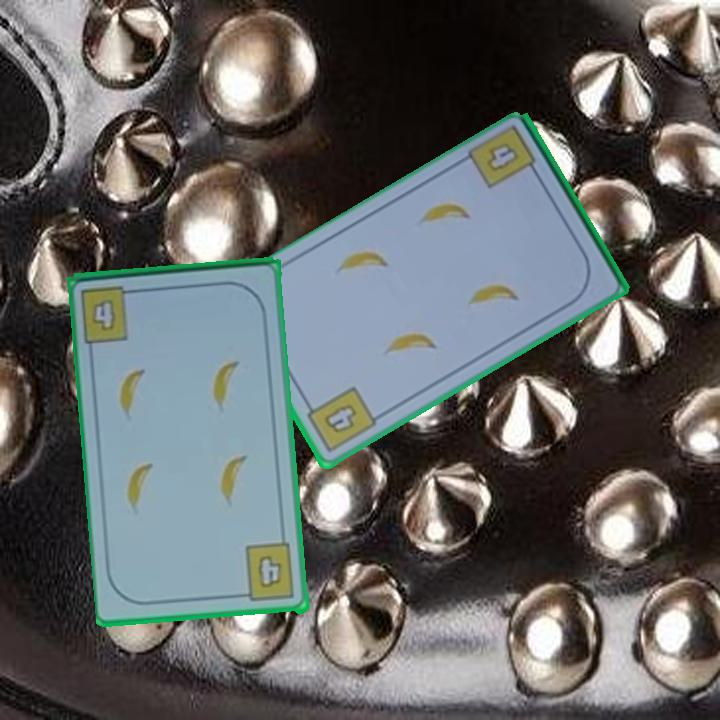4b: (301, 383, 380, 456), (77, 282, 143, 346), (235, 540, 298, 605), (482, 139, 522, 176)
